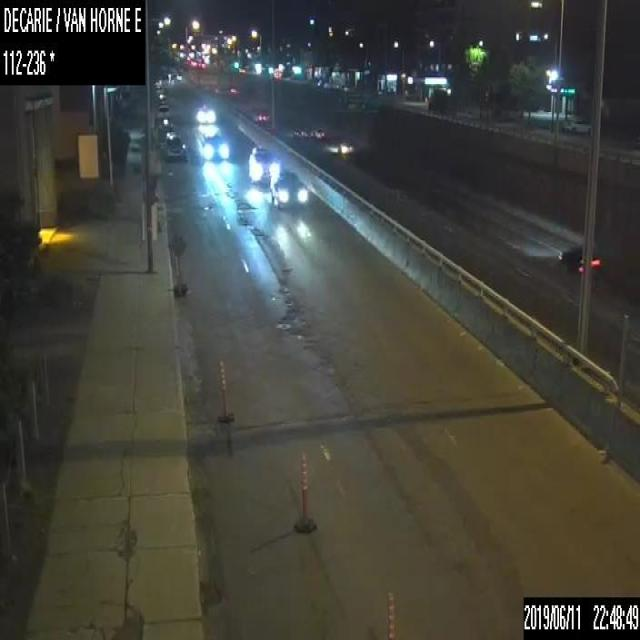construction: (293, 452, 316, 532), (216, 360, 234, 420), (173, 255, 186, 296), (384, 594, 396, 638)
vehicle: (555, 244, 602, 276), (270, 170, 306, 207), (247, 145, 280, 182), (197, 125, 229, 159), (161, 132, 187, 162), (193, 101, 216, 123), (157, 117, 173, 141), (337, 139, 354, 154), (253, 108, 268, 123), (289, 125, 306, 138), (311, 125, 324, 139), (157, 94, 167, 109)
